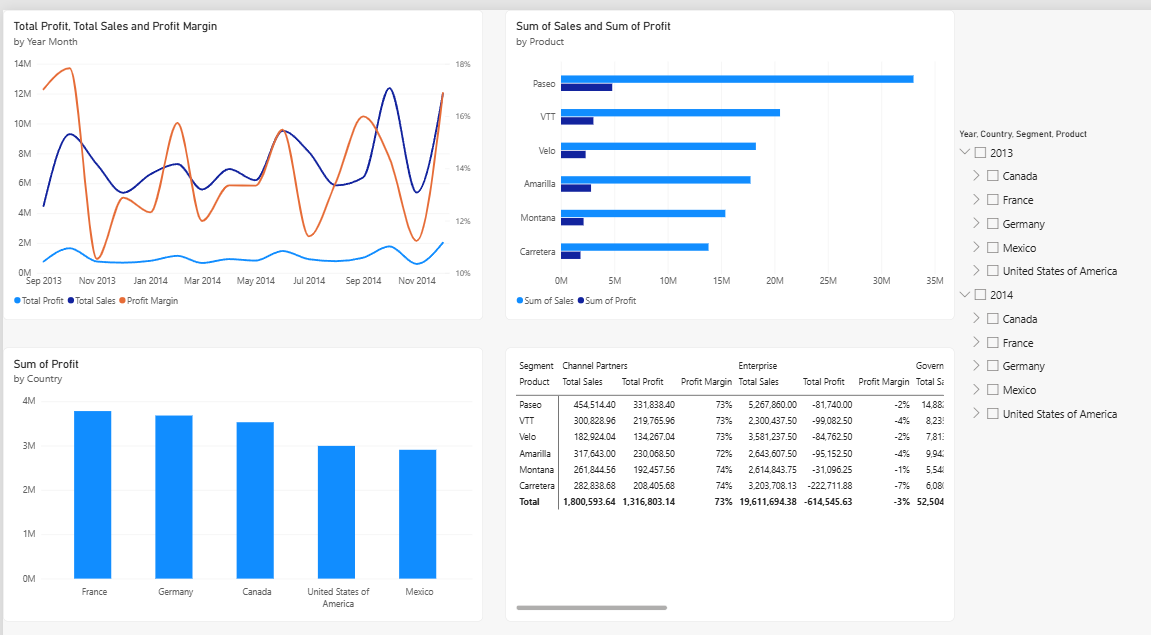

What the dashboard file says about the page in this screenshot:
{"tool":"powerbi","page":{"name":"Page 1","canvas":[1920,1080],"ordinal":0},"visuals":[{"type":"lineChart","fields":{"Category":["Calendar.Year Month"],"Y":["financials.Total Profit","financials.Total Sales"],"Y2":["financials.Profit Margin"]},"box":[0,0,768,496],"z":0},{"type":"clusteredColumnChart","fields":{"Category":["financials.Country"],"Y":["Sum(financials.Profit)"]},"box":[0,540,768,438],"z":1},{"type":"clusteredBarChart","fields":{"Category":["financials.Product"],"Y":["Sum(financials.Sales)","Sum(financials.Profit)"]},"box":[804,0,718,496],"z":2},{"type":"pivotTable","fields":{"Columns":["financials.Segment"],"Rows":["financials.Product"],"Values":["financials.Total Sales","financials.Total Profit","financials.Profit Margin"]},"box":[804,540,718,438],"z":3},{"type":"slicer","fields":{"Values":["financials.Year","financials.Country","financials.Segment","financials.Product"]},"box":[1522,190,398,660],"z":4}]}

Visuals, with their boxes in screenshot pixels (x1, y1, x2, y2), scaled from the page's 1920x1080 canvas onto the 1151x635 screenshot:
lineChart - Calendar.Year Month x financials.Total Profit: Rect(0, 0, 460, 292)
clusteredColumnChart - financials.Country x Sum(financials.Profit): Rect(0, 317, 460, 575)
clusteredBarChart - financials.Product x Sum(financials.Sales): Rect(482, 0, 912, 292)
pivotTable - financials.Segment x financials.Product: Rect(482, 317, 912, 575)
slicer - financials.Year x financials.Country: Rect(912, 112, 1150, 500)
